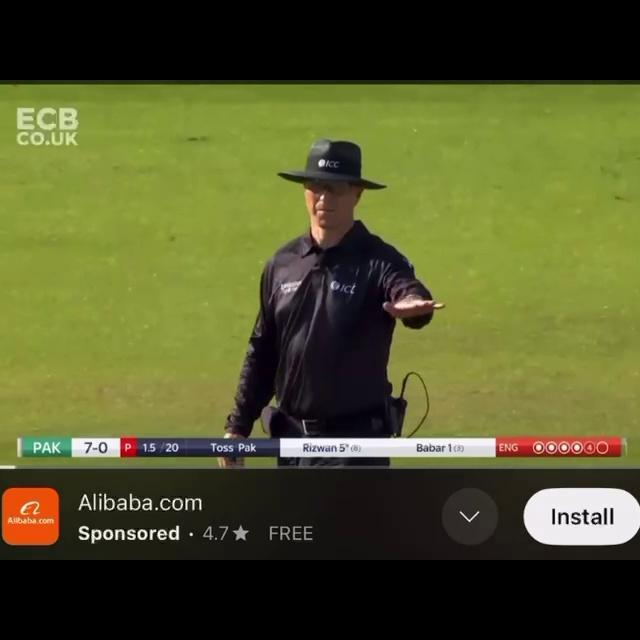umpire: (197, 123, 535, 432)
